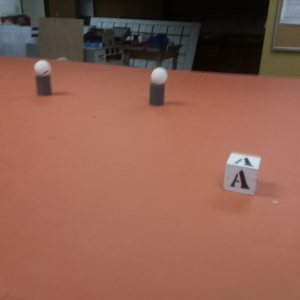blockA: (221, 150, 261, 196)
obstacle: (149, 64, 170, 110), (36, 61, 54, 97)
